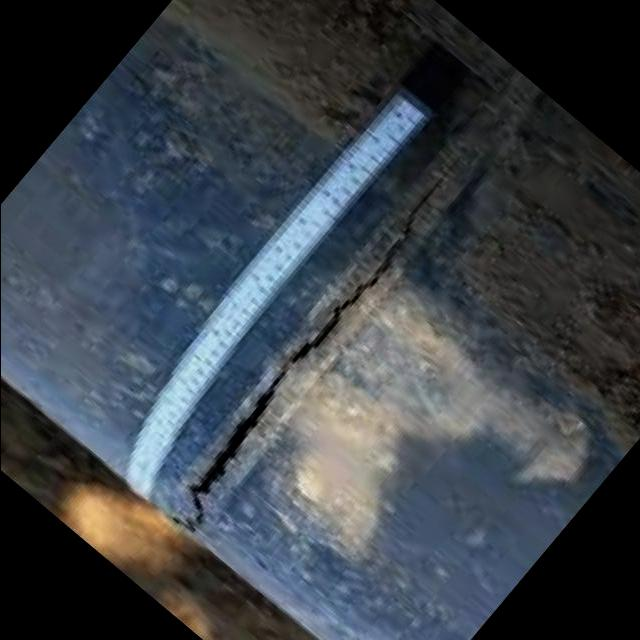defect: (160, 145, 469, 537)
